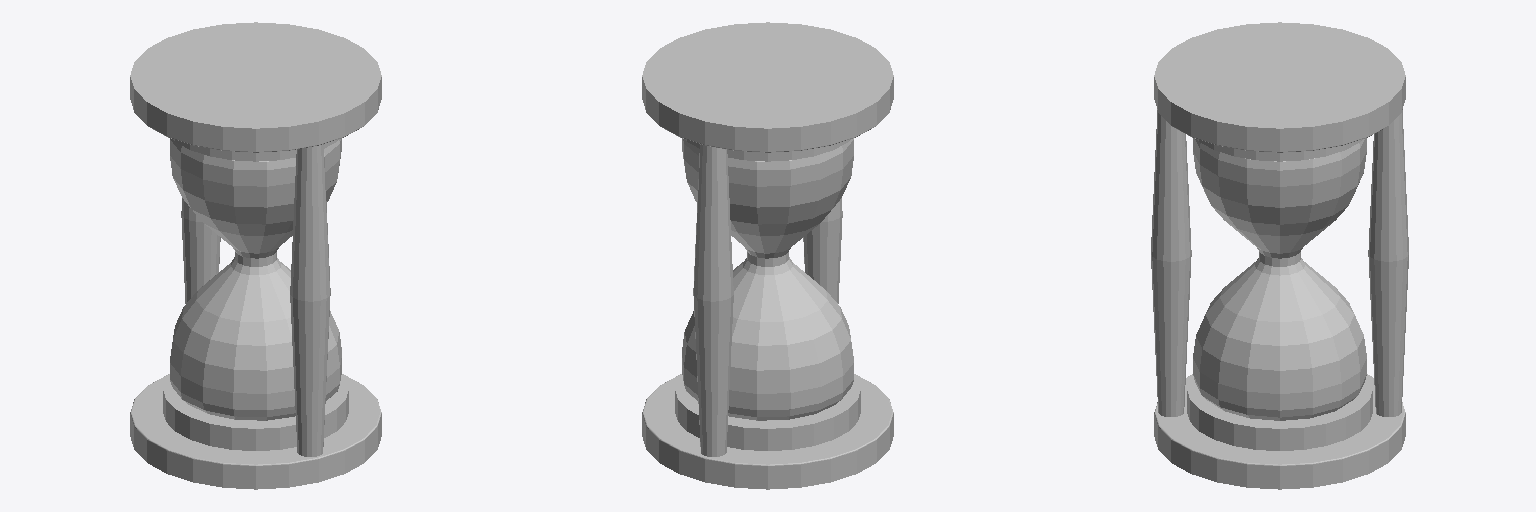
File: uploads_files_3008605_sand+watch+obj.obj
3 views of the same model, side by side, from view 1: azimuth 30°, elevation 25°; view 2: azimuth 150°, elevation 25°; view 3: azimuth 270°, elevation 25° (orthographic).
Visible parts, largest first — view 1: sand_watch_Mesh; view 2: sand_watch_Mesh; view 3: sand_watch_Mesh.
Part boxes in pixels (x1,y1,x2,y2): sand_watch_Mesh: (130,22,381,489); sand_watch_Mesh: (642,22,893,489); sand_watch_Mesh: (1151,22,1408,489).
Bounding box in the file's own units: 1.35 × 2.14 × 1.39.